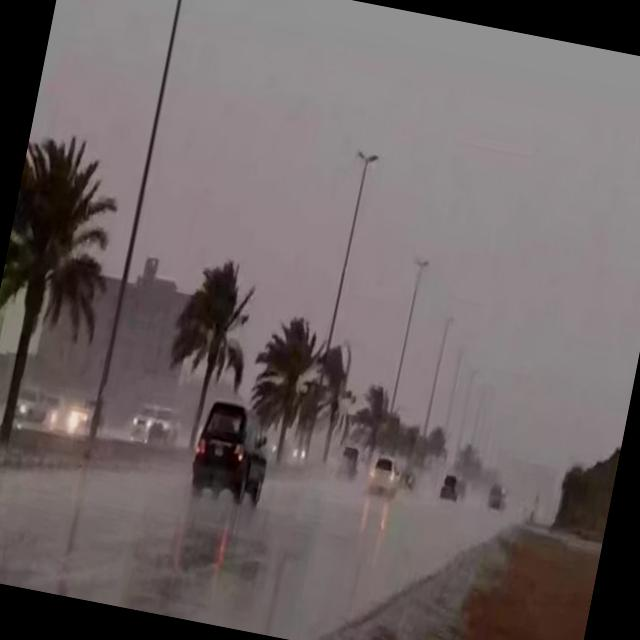Vehicle: (168, 372, 306, 524), (363, 448, 406, 509), (434, 462, 468, 510), (486, 477, 520, 523)
